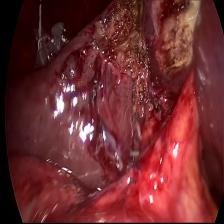Specimen Bag: (31, 16, 69, 72)
